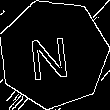N_N: (31, 26, 76, 81)
